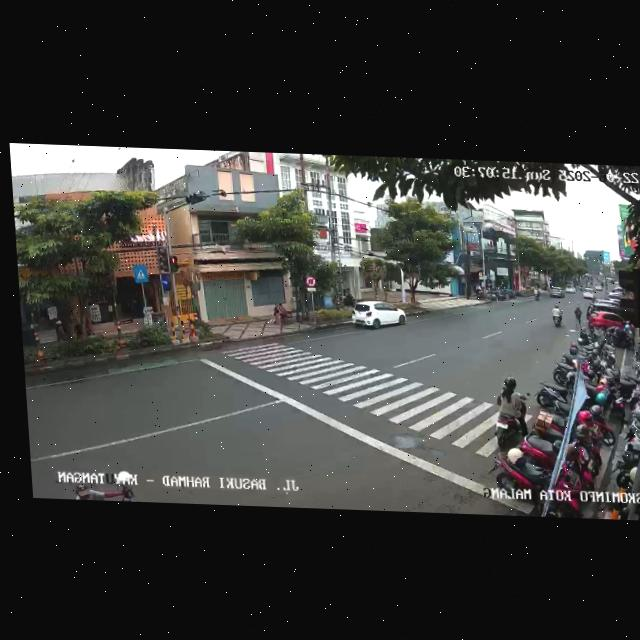car: (348, 298, 406, 331), (586, 299, 627, 335)
motorcycle: (492, 378, 525, 449), (549, 302, 564, 328)
person: (574, 304, 584, 332)
